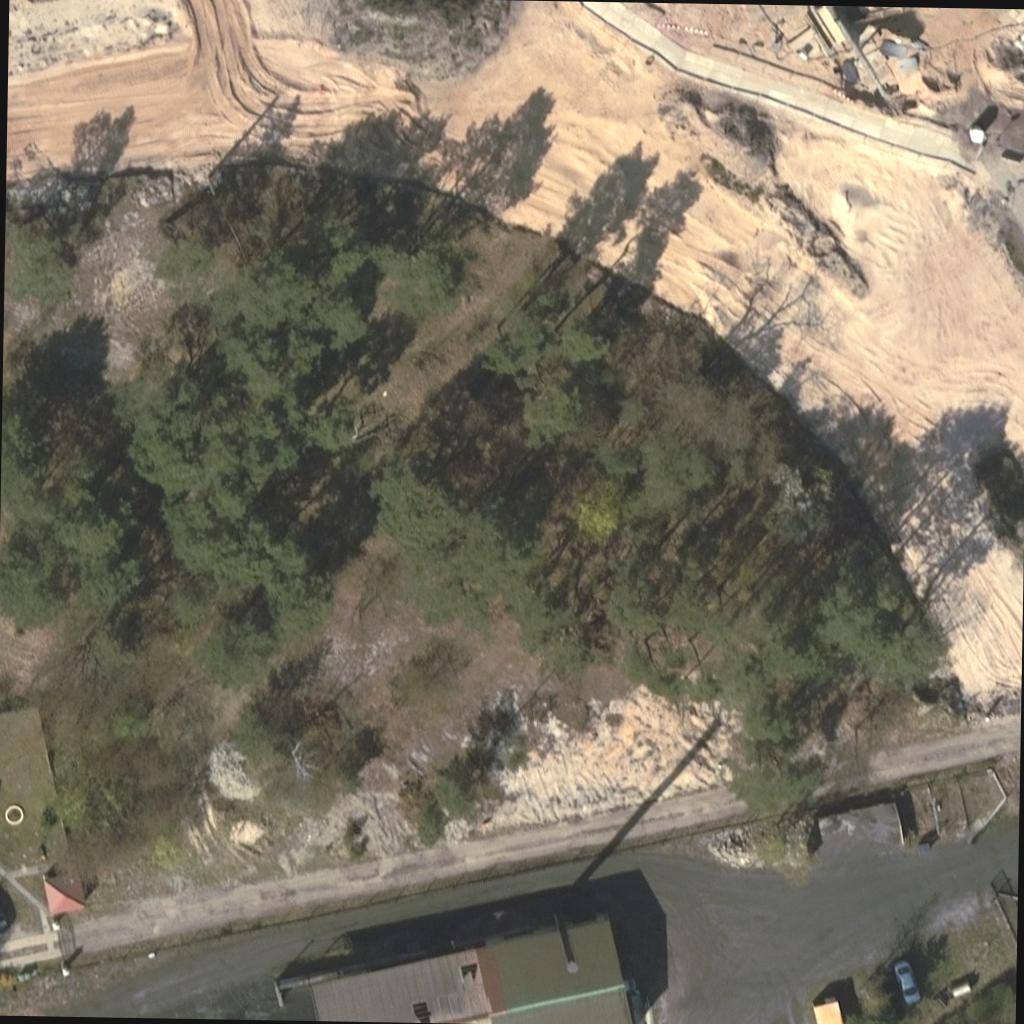samochod_osobowy: (887, 957, 924, 1009)
